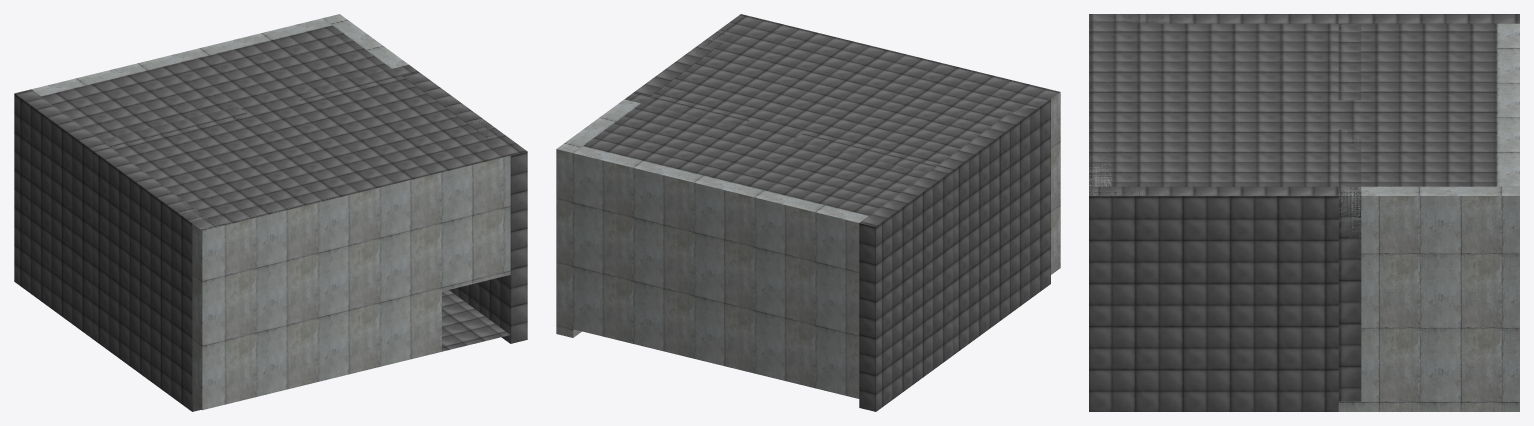
Rendered from Level_23.fbx.
3 renders of one model, left to right at view 1: azimuth 30°, elevation 25°; view 2: azimuth 150°, elevation 25°; view 3: azimuth 270°, elevation 25°, orthographic. The views are drawn at different scales.
Parts seen in each view (by area): view 1: NoTeleport.012, Wall.013; view 2: NoTeleport.012, Wall.013; view 3: NoTeleport.012, Wall.013.
Boxes of the visible parts, x1,y1,x2,y2 form: NoTeleport.012: (14, 25, 527, 411); Wall.013: (31, 14, 510, 410); NoTeleport.012: (583, 14, 1059, 411); Wall.013: (556, 92, 1060, 398); NoTeleport.012: (1089, 14, 1519, 411); Wall.013: (1089, 23, 1519, 411).
Bounding box in the file's own units: 19 × 19 × 10.5.
